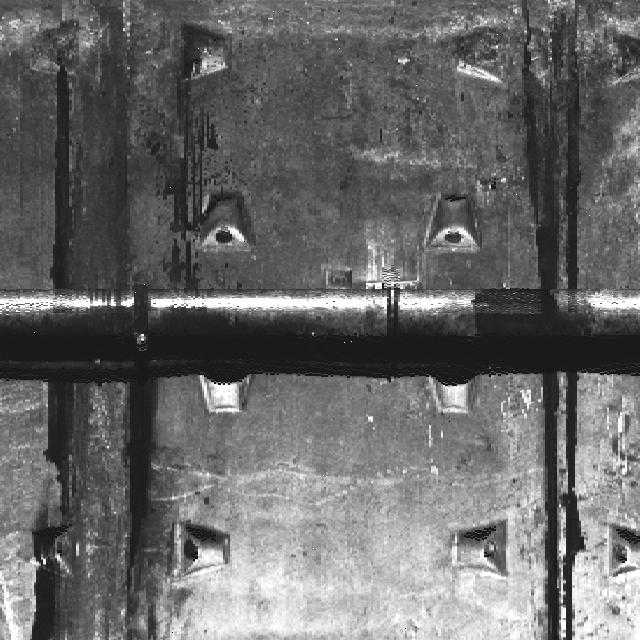leakage: (1, 1, 208, 289), (29, 373, 192, 639), (526, 3, 594, 286), (538, 370, 598, 639)
